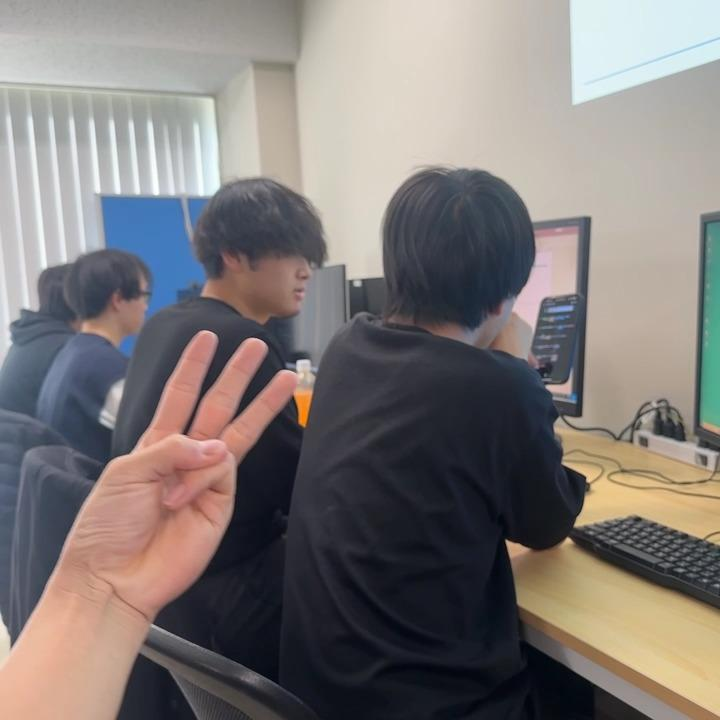without_gloves: (127, 319, 324, 580)
